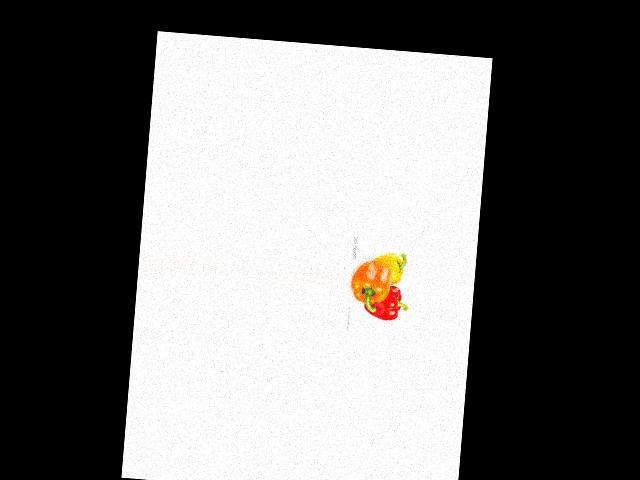bell_pepper: (369, 249, 409, 287)
